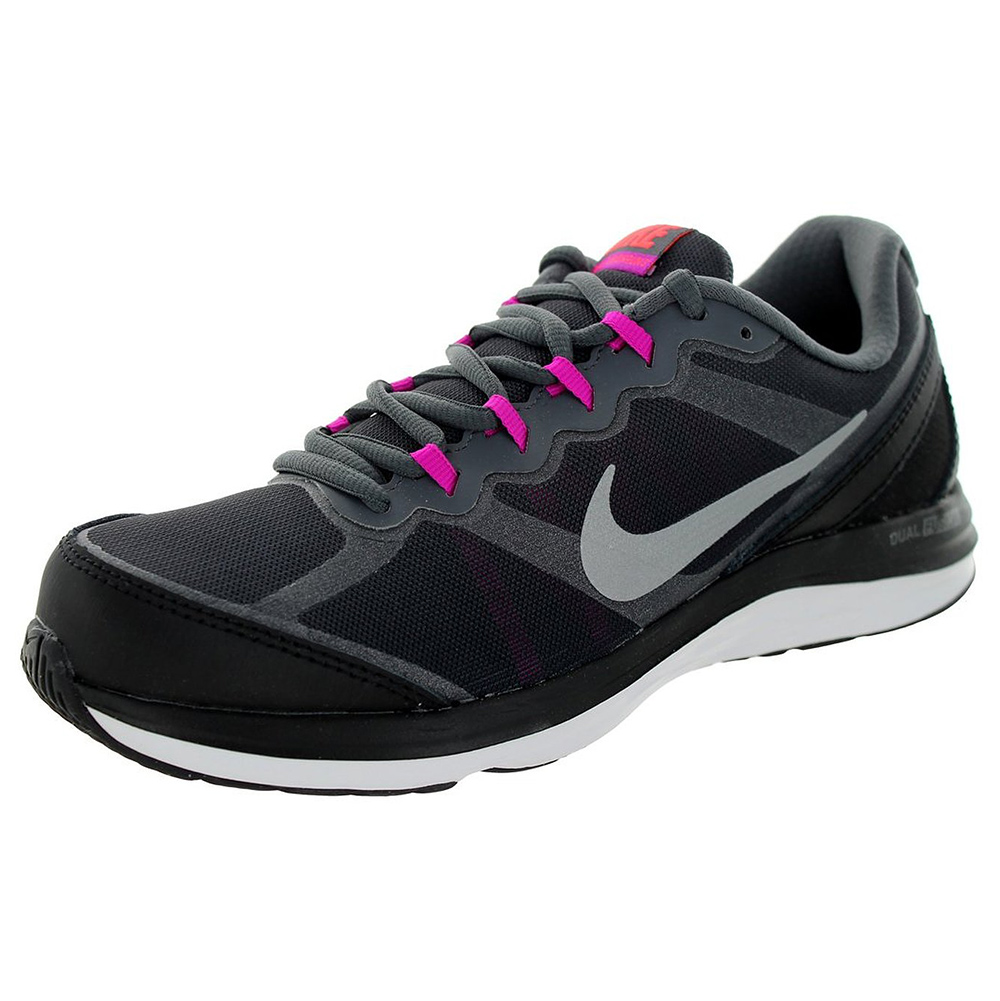Nike: (567, 396, 871, 604)
